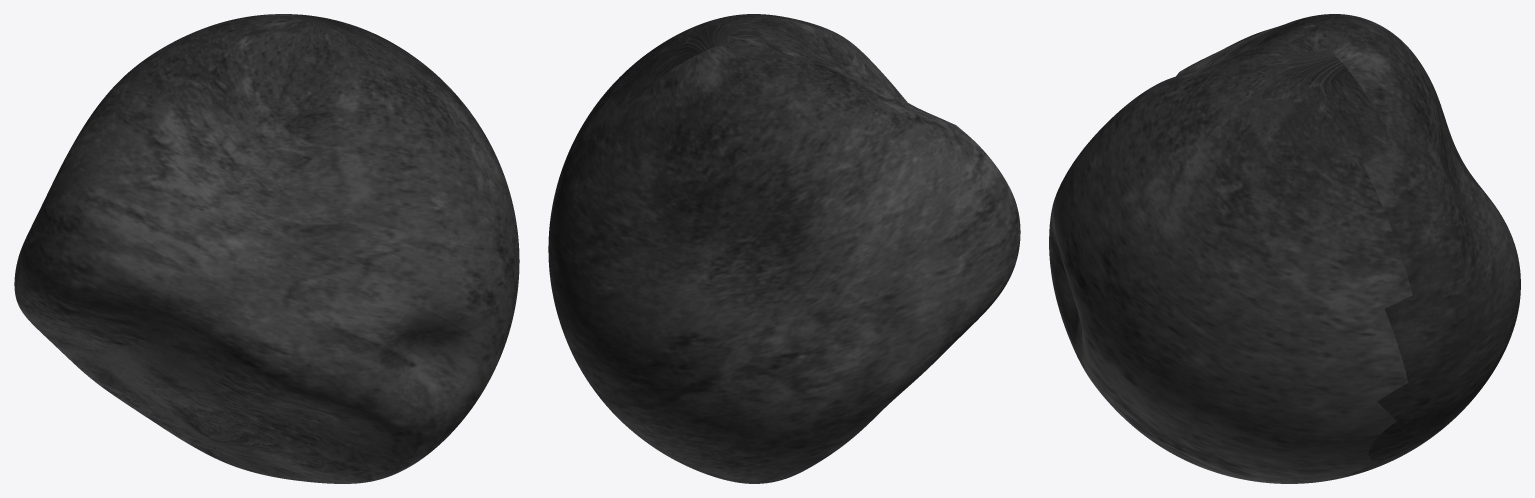
File: Asteroid_1-3.fbx
The picture shows the model from 3 angles, left to right: view 1: azimuth 30°, elevation 25°; view 2: azimuth 150°, elevation 25°; view 3: azimuth 270°, elevation 25°; orthographic projection. The views are drawn at different scales.
Parts seen in each view (by area): view 1: Asteroid_1-3.001; view 2: Asteroid_1-3.001; view 3: Asteroid_1-3.001.
Boxes of the visible parts, x1,y1,x2,y2 form: Asteroid_1-3.001: [14, 14, 519, 483]; Asteroid_1-3.001: [548, 14, 1020, 483]; Asteroid_1-3.001: [1049, 14, 1520, 483].
Bounding box in the file's own units: 2.02 × 1.91 × 1.92.
1 material, 1 textured.
